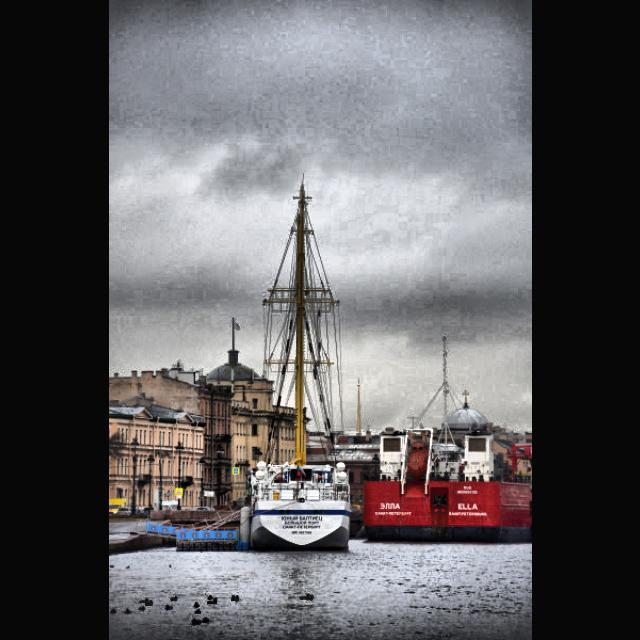sailing_vessel: (250, 183, 350, 552)
